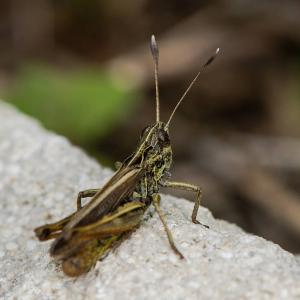locust: (35, 60, 221, 274)
